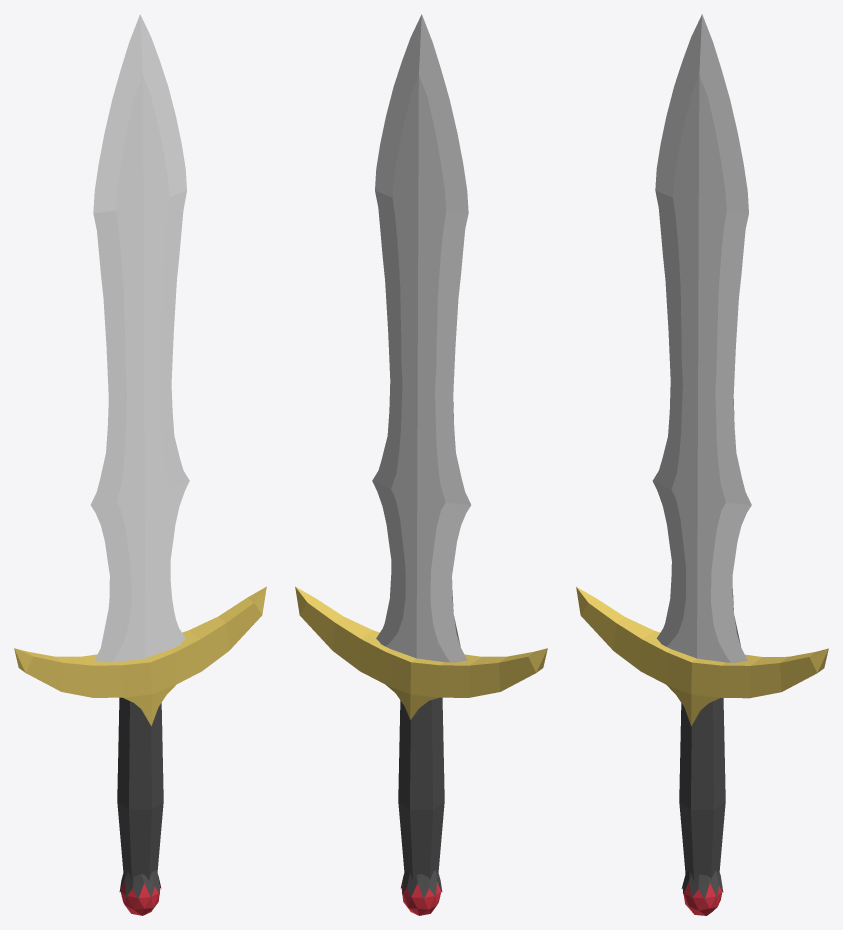
The model's file is FBX_Sword.fbx.
The picture shows the model from 3 angles, left to right: view 1: azimuth 30°, elevation 25°; view 2: azimuth 150°, elevation 25°; view 3: azimuth 330°, elevation 25°; orthographic projection.
Parts seen in each view (by area): view 1: Plane; view 2: Plane; view 3: Plane.
Boxes of the visible parts, <box> form: Plane: <box>14,14,266,915</box>; Plane: <box>295,14,547,915</box>; Plane: <box>576,14,828,915</box>.
Bounding box in the file's own units: 0.3111 × 1.06 × 0.0496.
